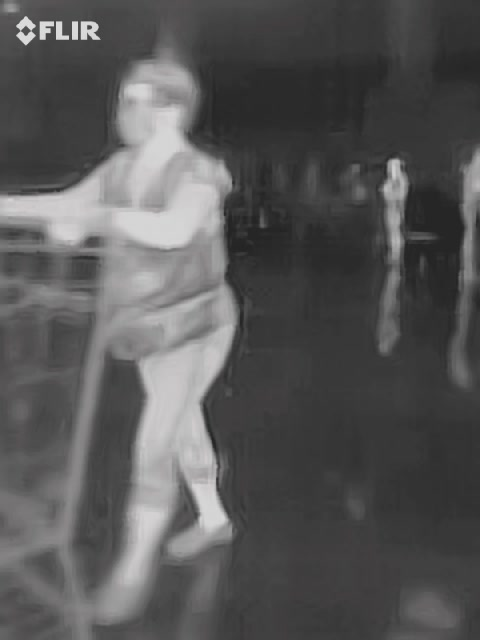head: (112, 56, 198, 145)
